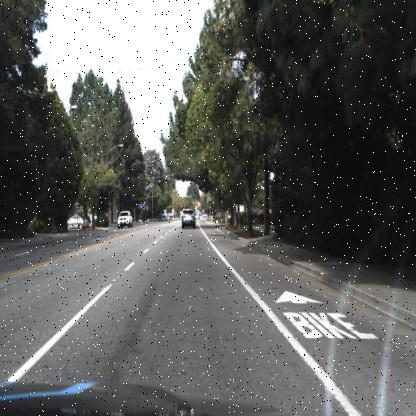car: (115, 206, 135, 230), (179, 208, 197, 232), (65, 213, 86, 233)
